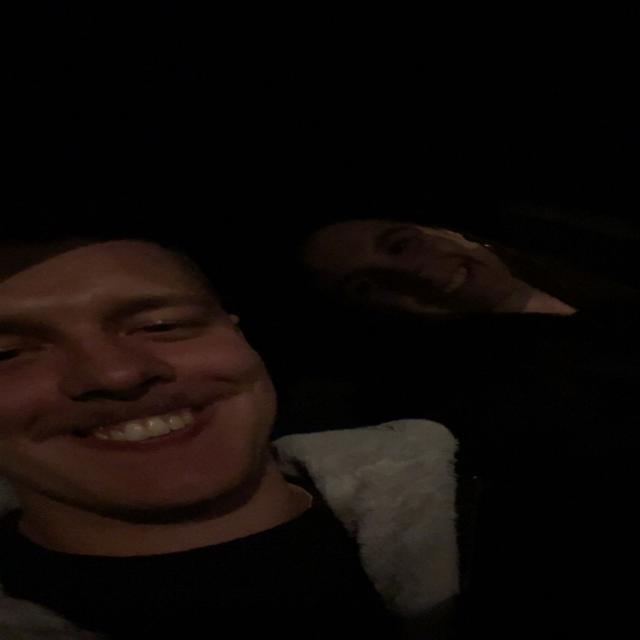JeremiasDiaz: (0, 184, 292, 532)
